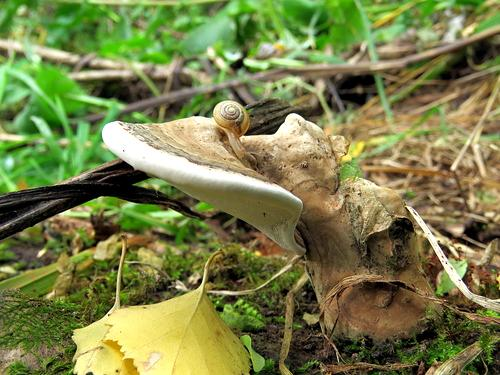Ganoderma - Fruit Body: (100, 111, 346, 258)
